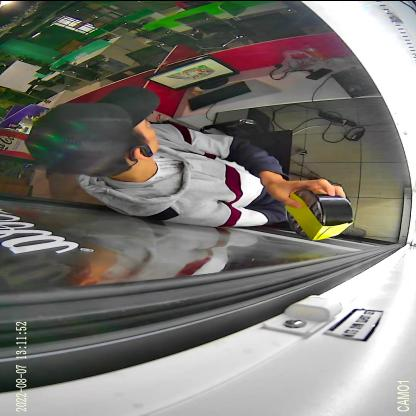yellow: (284, 187, 354, 240)
